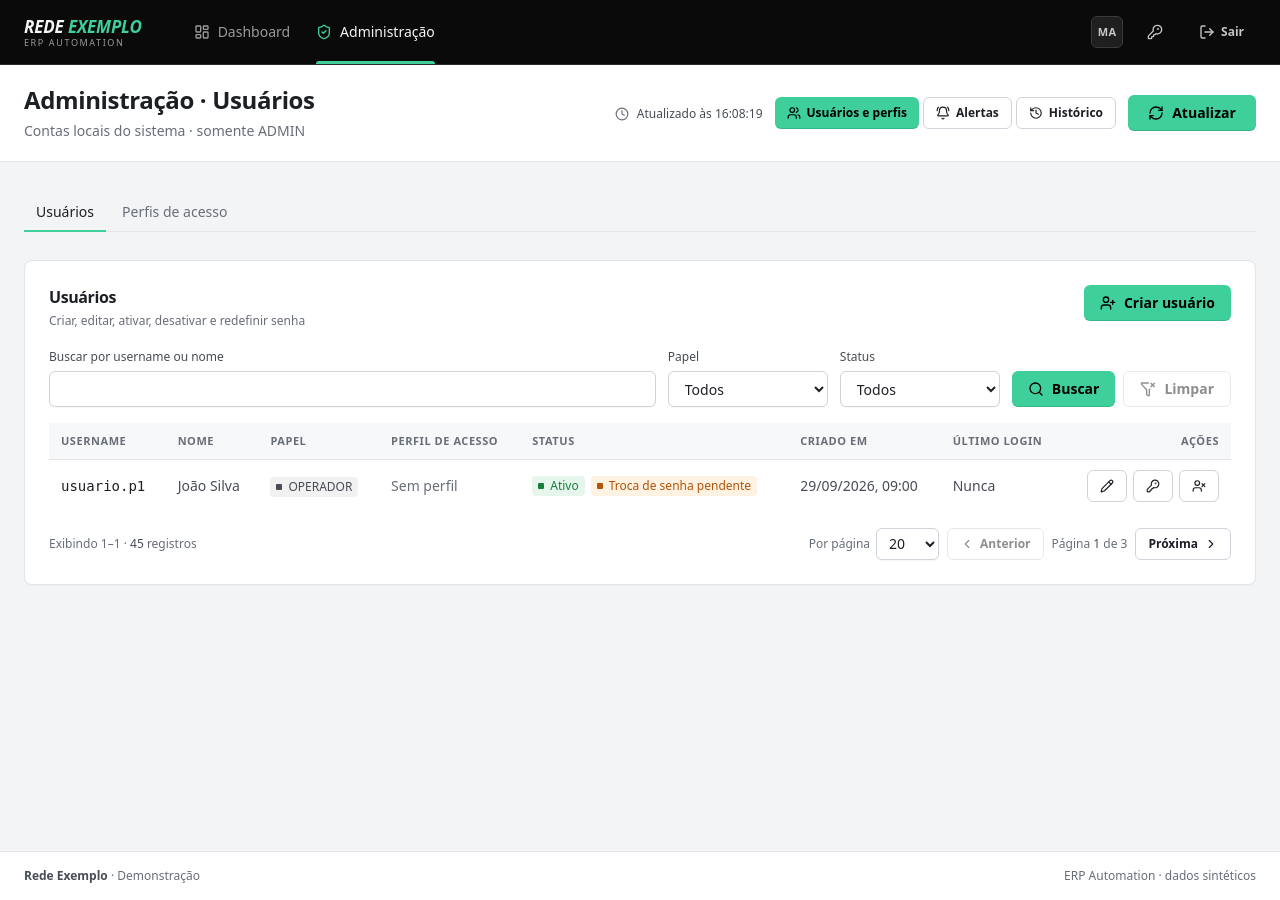
listagem › paginação preserva os filtros
Check: the text "usuario.p1" is shown, box [49, 459, 166, 512]
Step 1. Select "ADMIN" in the dropdown labelled "Papel" → coordinates (748, 389), box [668, 371, 828, 407]
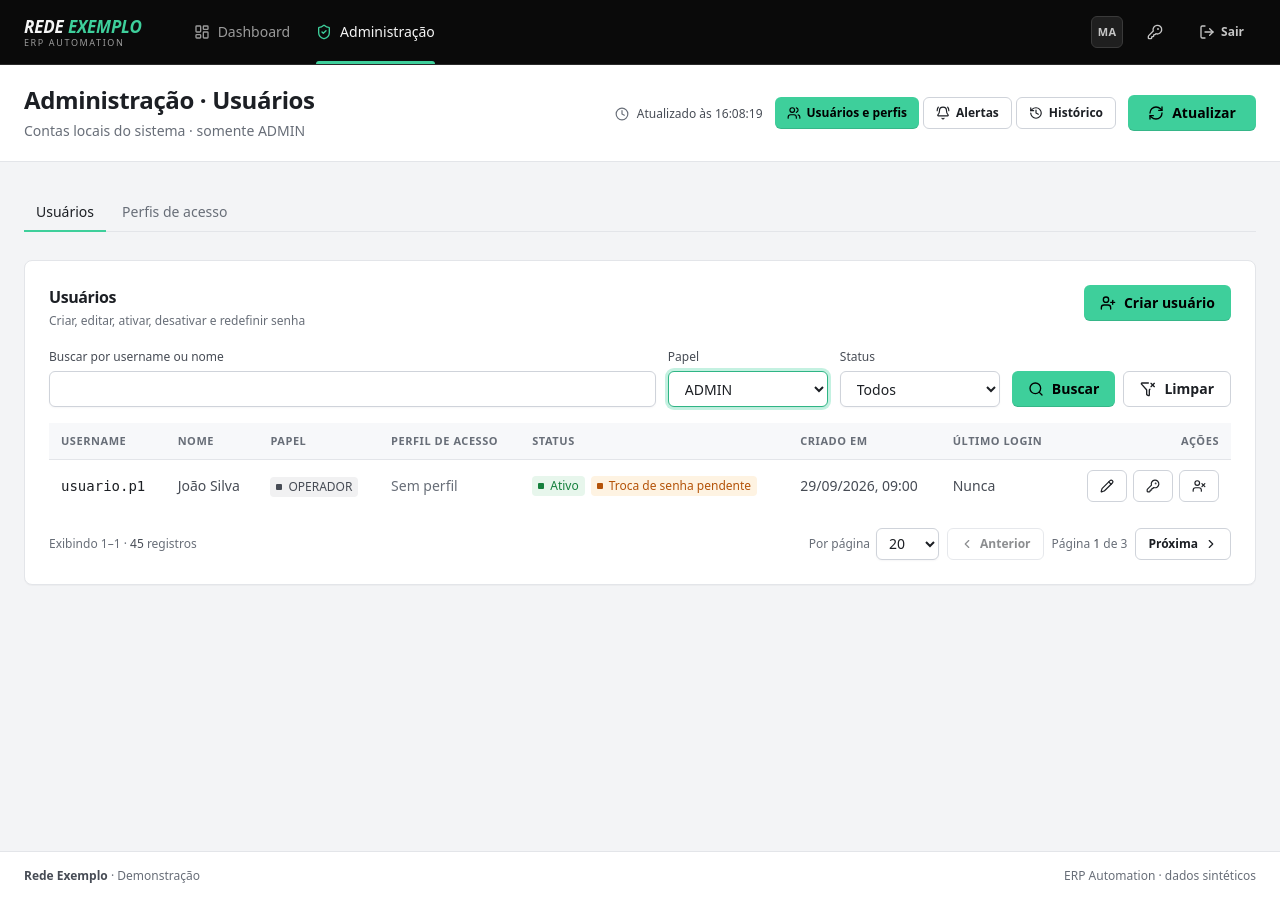
Step 2. Click the button "Buscar" → coordinates (1064, 389), box [1012, 371, 1115, 407]
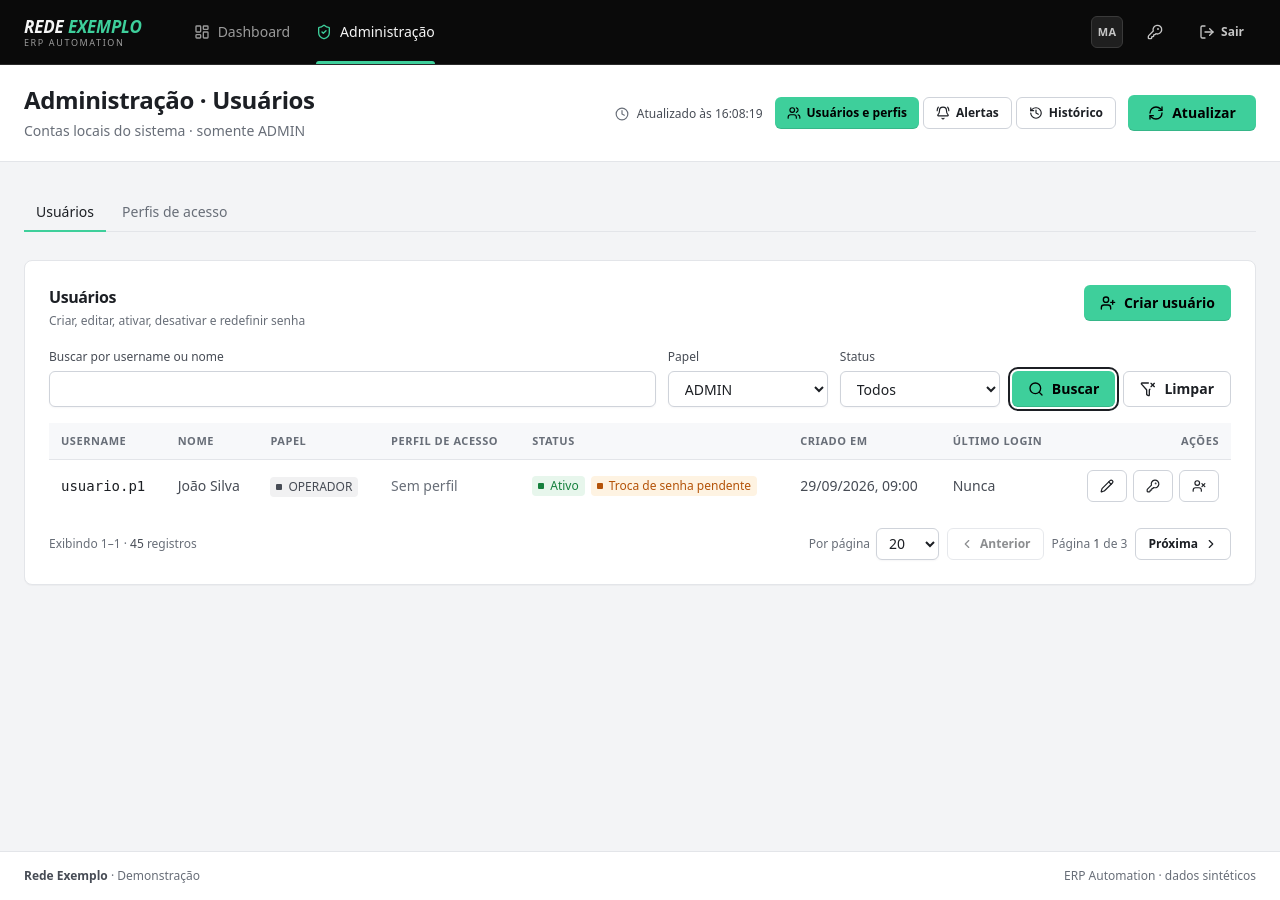
Step 3. Click the button "Próxima" → coordinates (1183, 544), box [1135, 528, 1231, 560]
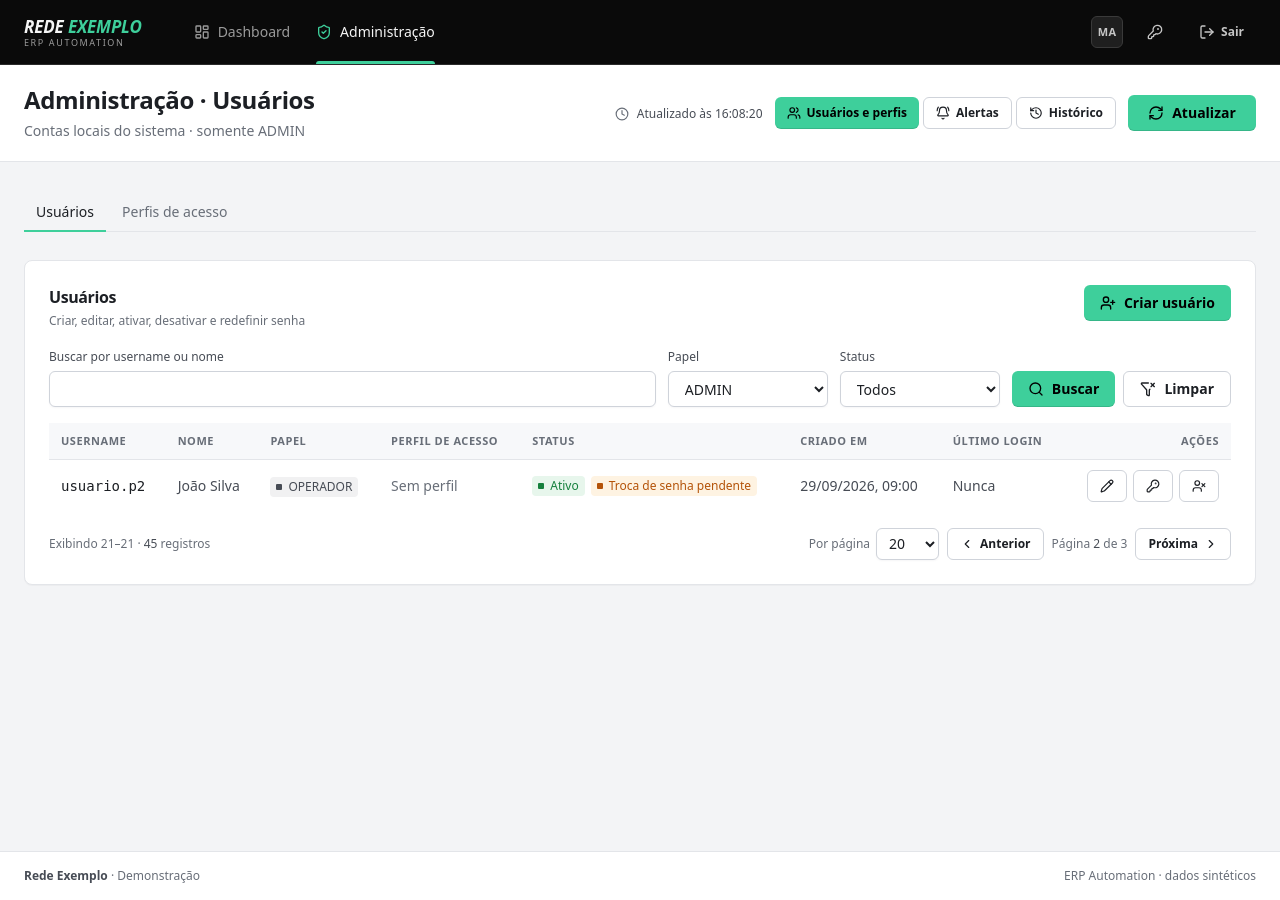
Check: the text "usuario.p2" is shown, box [49, 459, 166, 512]
